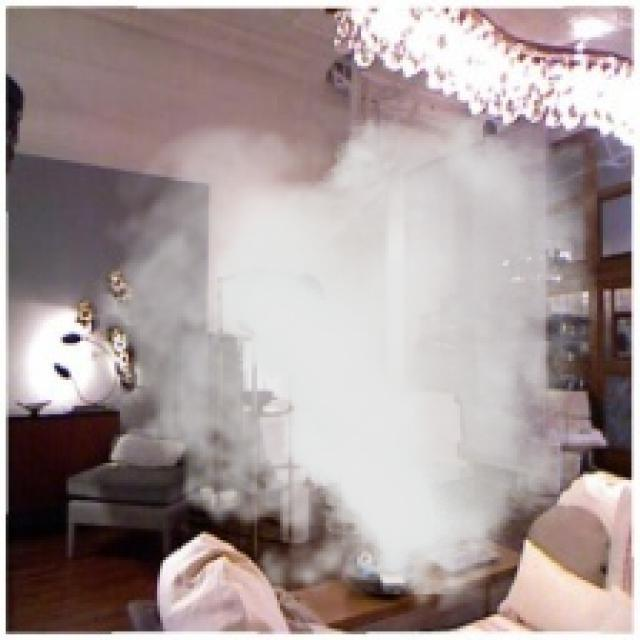Smoke: (80, 111, 597, 626)
